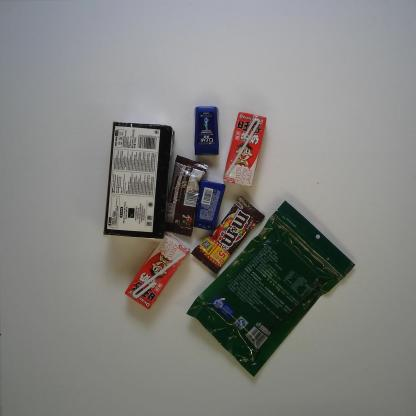Chocolate: (191, 196, 265, 274), (164, 155, 209, 238)
Dried Food: (185, 200, 356, 378)
Milk: (124, 231, 190, 310), (223, 111, 267, 188)
Personal Hygiene: (194, 179, 226, 232), (194, 106, 219, 156)
Tissue: (103, 122, 175, 240)
